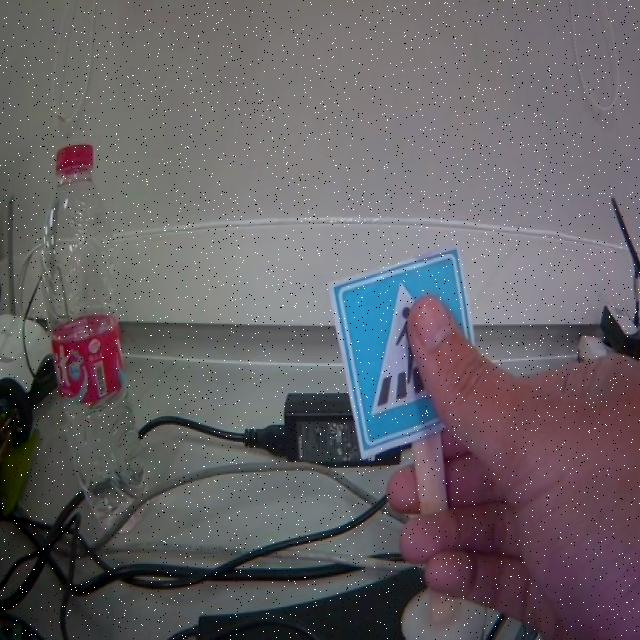Rambu Penyebrangan: (329, 248, 474, 455)
